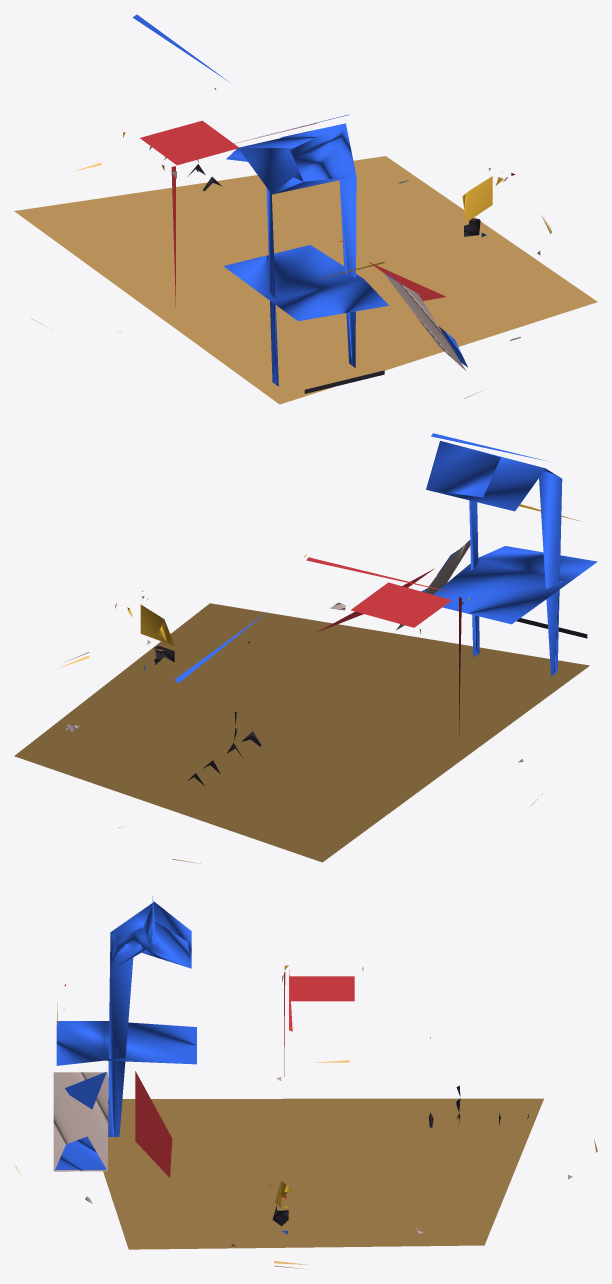
3 views of the same model, one above another, from view 1: azimuth 30°, elevation 25°; view 2: azimuth 150°, elevation 25°; view 3: azimuth 270°, elevation 25° (orthographic). The views are drawn at different scales.
Size of the model in its own units: 8.29 by 3.83 by 9.77.
